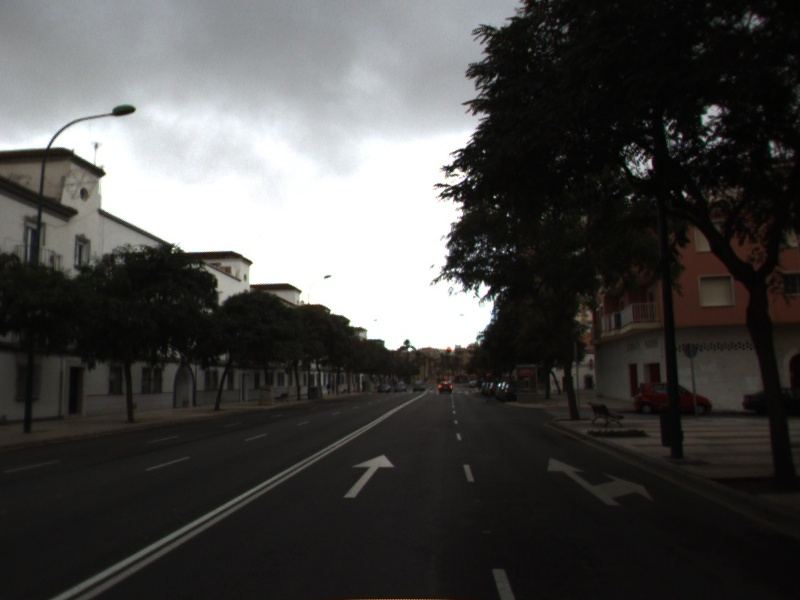STRAIGHT: (342, 453, 397, 499)
STRAIGHT_RIGHT: (546, 456, 655, 507)
